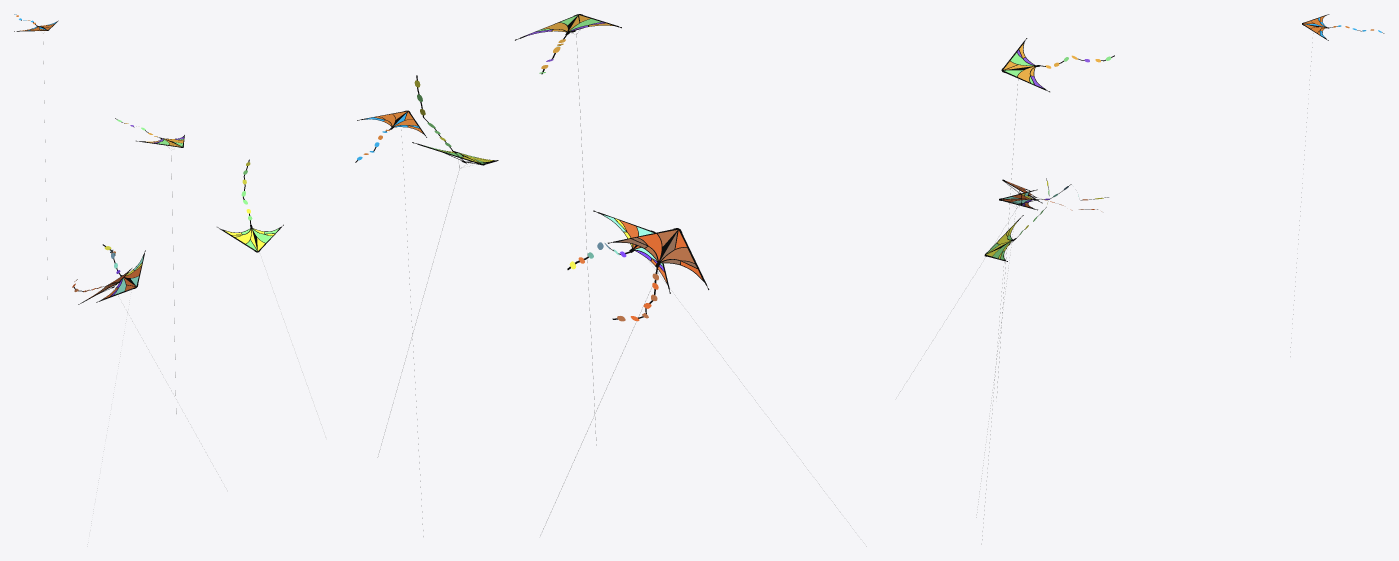
Rendered from kite.glb.
3 views of the same model, side by side, from view 1: azimuth 30°, elevation 25°; view 2: azimuth 150°, elevation 25°; view 3: azimuth 270°, elevation 25° (orthographic). The views are drawn at different scales.
Bounding box in the file's own units: 15.73 × 20.71 × 19.66.
